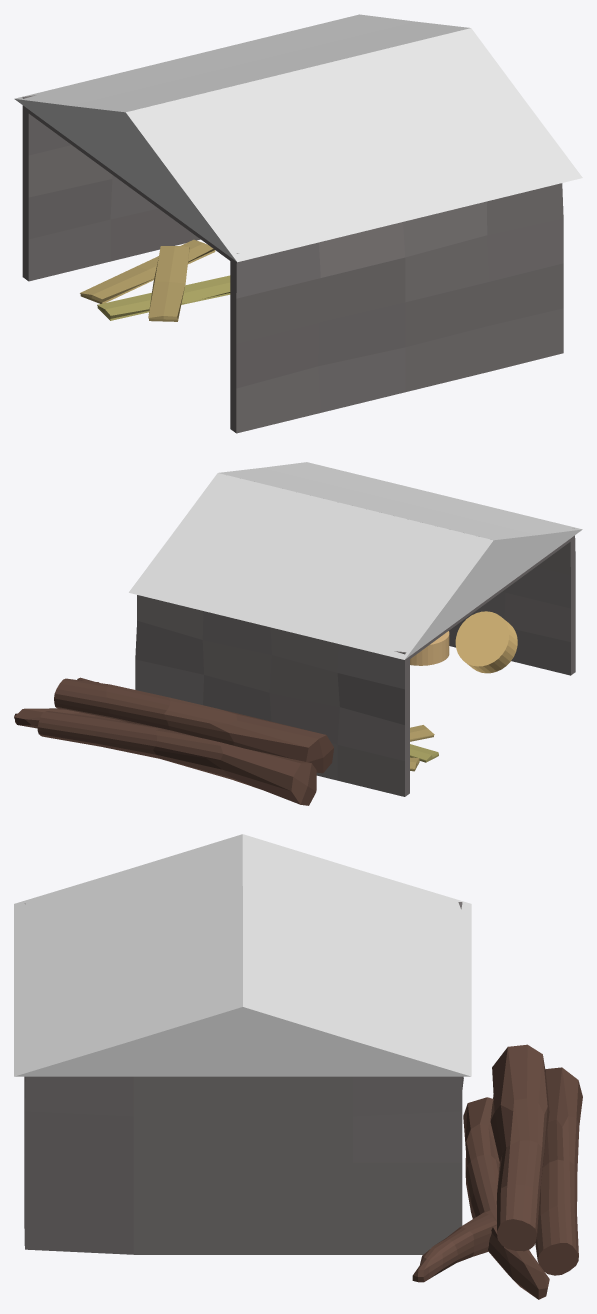
Rendered from factory.fbx.
The picture shows the model from 3 angles, top to bottom: view 1: azimuth 30°, elevation 25°; view 2: azimuth 150°, elevation 25°; view 3: azimuth 270°, elevation 25°; orthographic projection. The views are drawn at different scales.
Parts seen in each view (by area): view 1: Cube.001, Cube, Cube.002, Cube.003, Cube.004; view 2: Cube.001, Cube, Cylinder.005, Cylinder.004, Cylinder.002, Cylinder.001, Cylinder.003; view 3: Cube.001, Cube, Cylinder.005, Cylinder.003, Cylinder.004.
Boxes of the visible parts, x1=… form: Cube.001: x1=14, y1=14, x2=582, y2=262; Cube: x1=22, y1=95, x2=563, y2=433; Cube.002: x1=148, y1=246, x2=189, y2=321; Cube.003: x1=80, y1=239, x2=215, y2=303; Cube.004: x1=97, y1=275, x2=230, y2=320; Cube.001: x1=129, y1=462, x2=582, y2=659; Cube: x1=135, y1=528, x2=575, y2=796; Cylinder.005: x1=54, y1=678, x2=333, y2=773; Cylinder.004: x1=37, y1=711, x2=316, y2=805; Cylinder.002: x1=455, y1=611, x2=517, y2=673; Cylinder.001: x1=410, y1=631, x2=449, y2=665; Cylinder.003: x1=14, y1=677, x2=135, y2=728; Cube.001: x1=14, y1=834, x2=471, y2=1076; Cube: x1=24, y1=902, x2=463, y2=1254; Cylinder.005: x1=490, y1=1044, x2=549, y2=1251; Cylinder.003: x1=412, y1=1097, x2=549, y2=1299; Cylinder.004: x1=535, y1=1067, x2=582, y2=1275.
Bounding box in the file's own units: 1019 × 526 × 1077.
